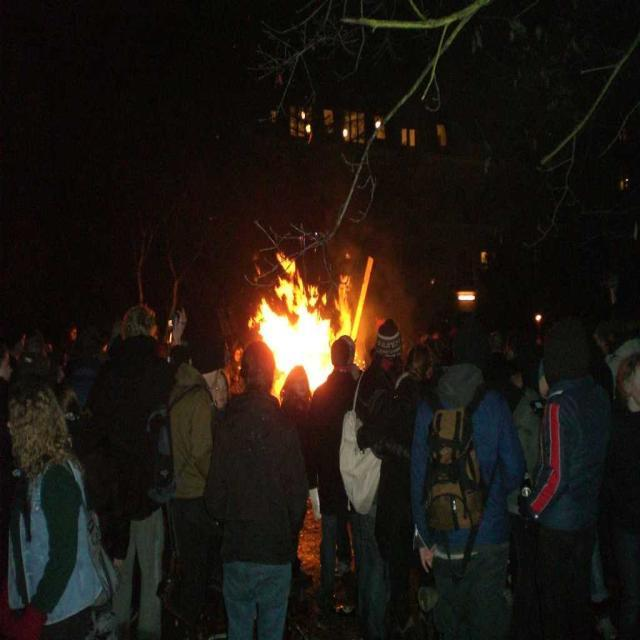Fire: (272, 315, 328, 377)
